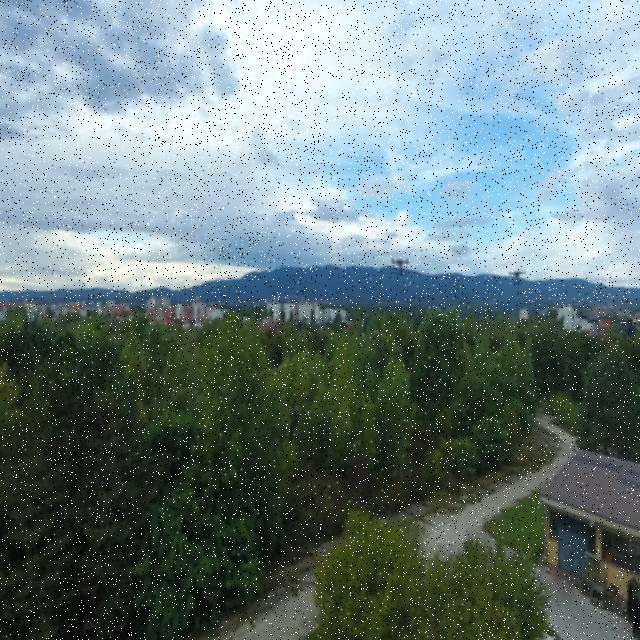UAV: (373, 251, 427, 278), (508, 266, 529, 289)
